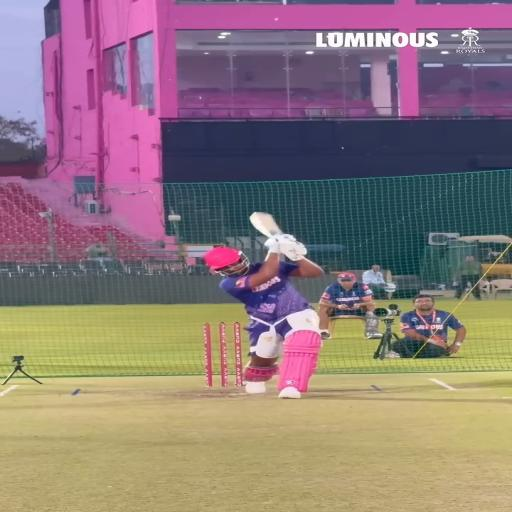Cricket bat: (250, 212, 282, 238)
